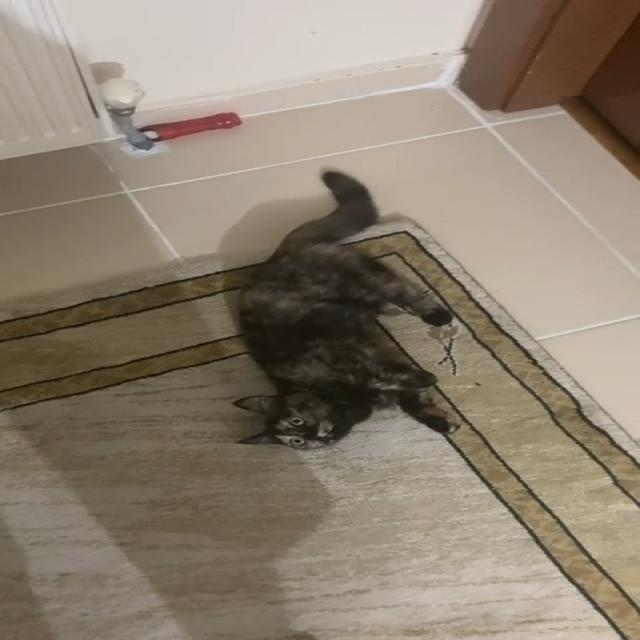authorized: (229, 169, 462, 450)
